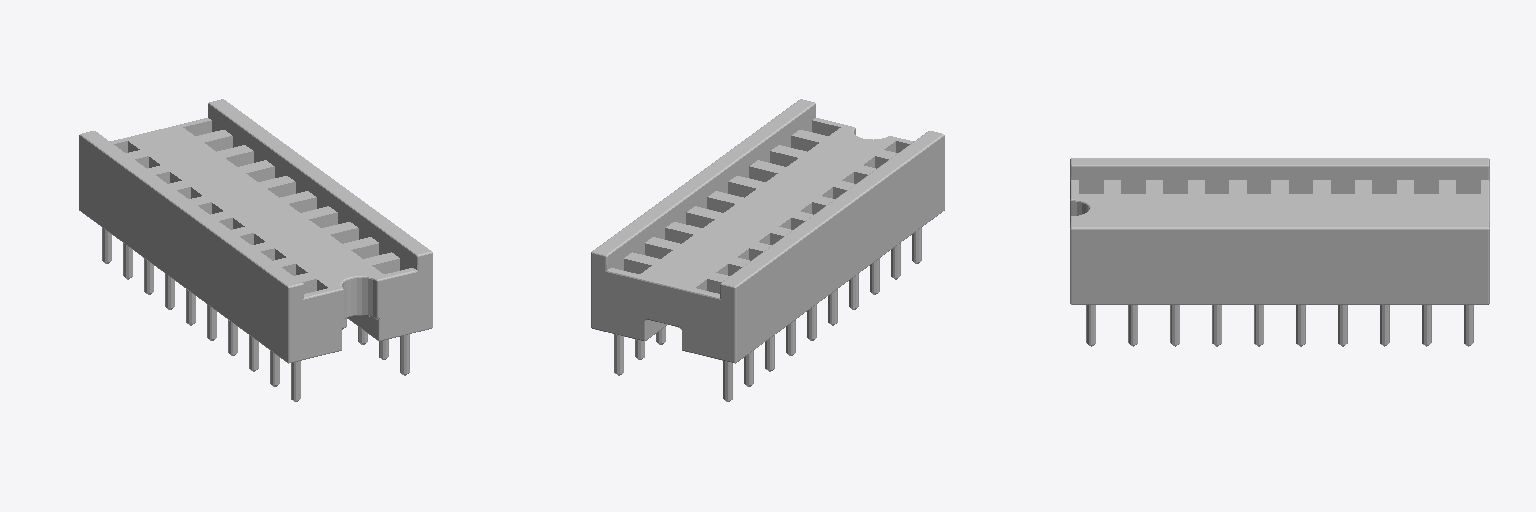
The model's file is IC_Sockel_20P.obj.
3 renders of one model, left to right at view 1: azimuth 30°, elevation 25°; view 2: azimuth 150°, elevation 25°; view 3: azimuth 270°, elevation 25°, orthographic.
Parts seen in each view (by area): view 1: Volumenkörper1; view 2: Volumenkörper1; view 3: Volumenkörper1.
Boxes of the visible parts, <box> form: Volumenkörper1: <box>79,99,432,401</box>; Volumenkörper1: <box>591,99,944,401</box>; Volumenkörper1: <box>1070,158,1489,346</box>.
Size of the model in its own units: 10.16 by 8.46 by 25.4.